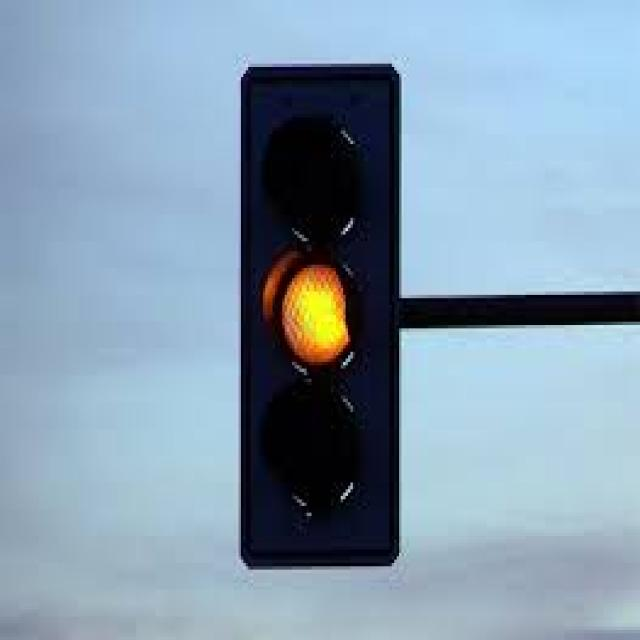yellow light: (252, 76, 398, 541)
